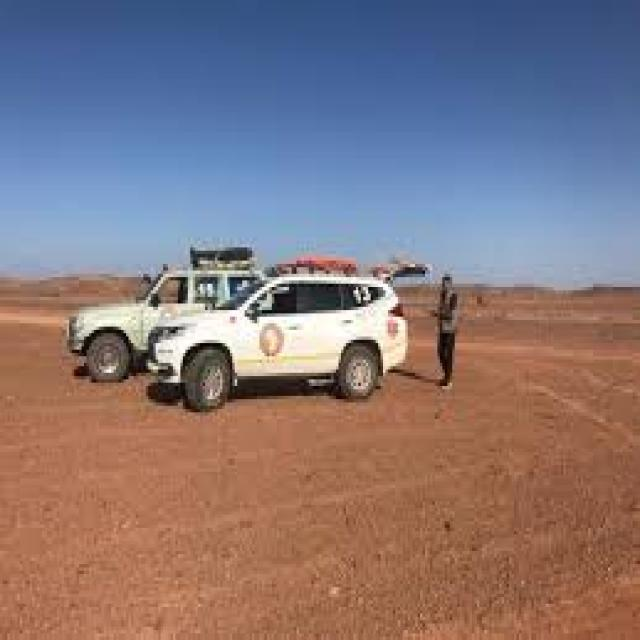ambulance: (152, 250, 418, 416)
